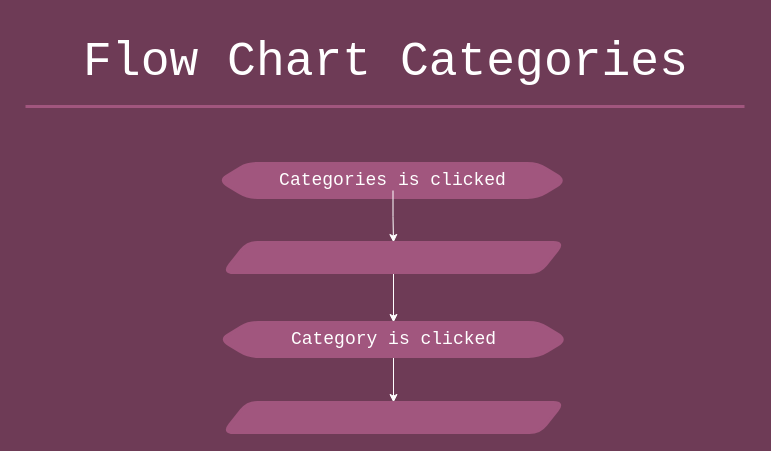
Image size: 771x451. Some labels were removed from this diagram. The shapes that lost their labels are listed below. From the top down, each one's centre as x and y in pixels, then its label:
(x=393, y=257): Categories render
(x=393, y=417): Questions render
